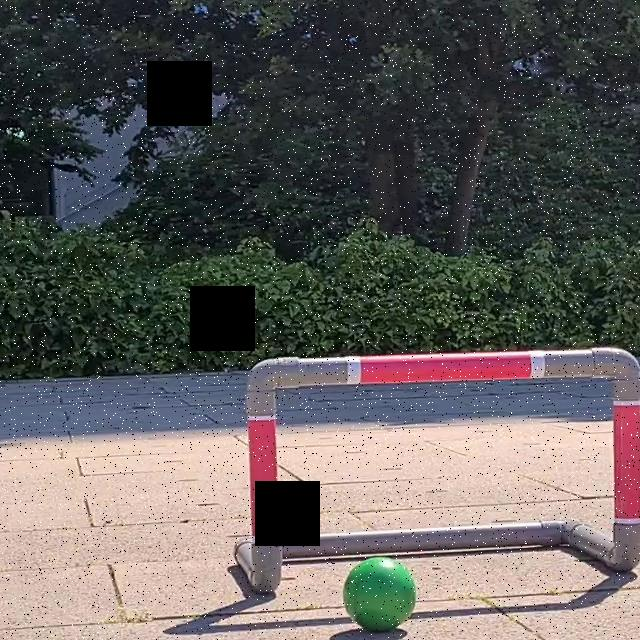ball: (340, 555, 419, 634)
